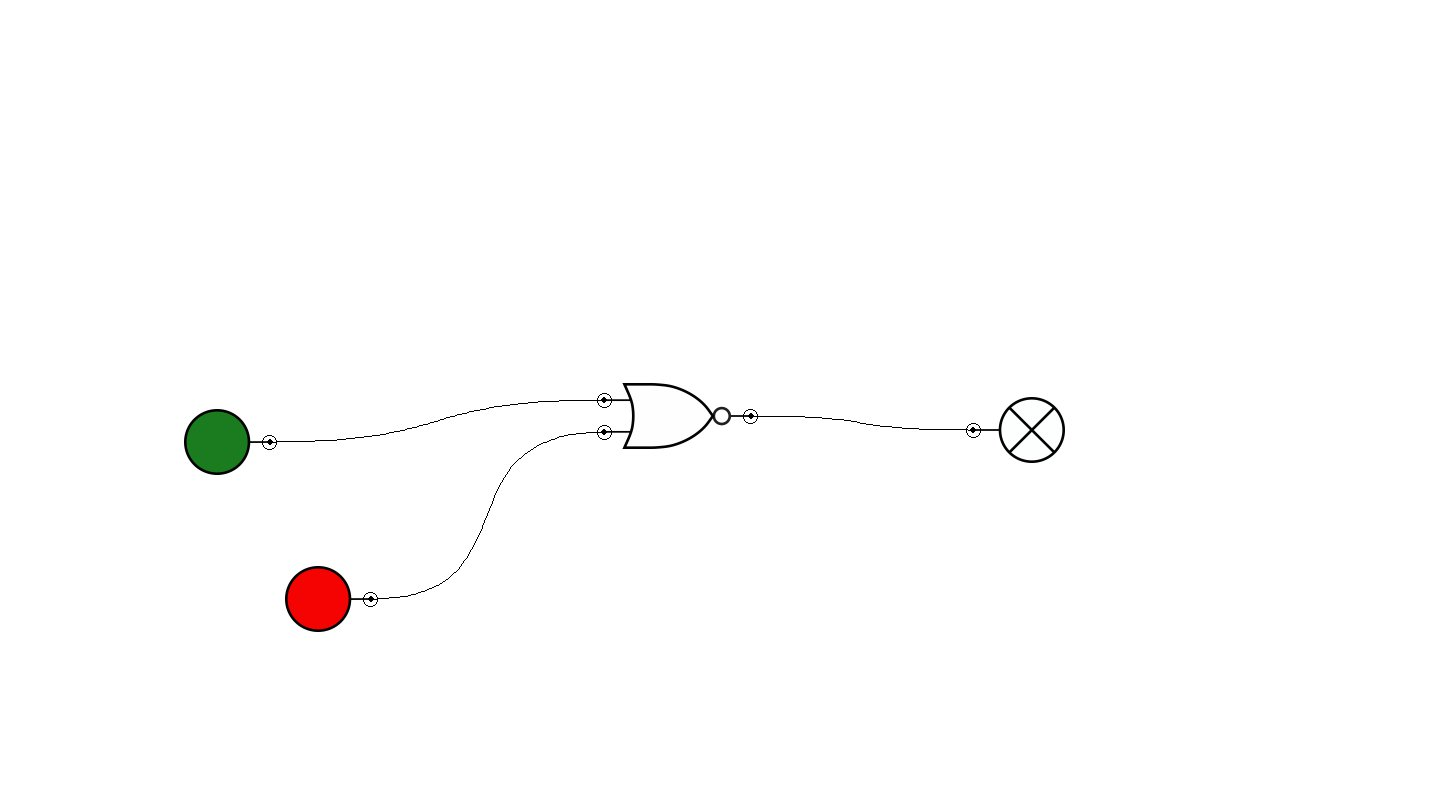bulb: (966, 397, 1065, 463)
nor: (597, 383, 758, 449)
switch_False: (285, 566, 378, 632)
switch_True: (184, 409, 277, 475)
